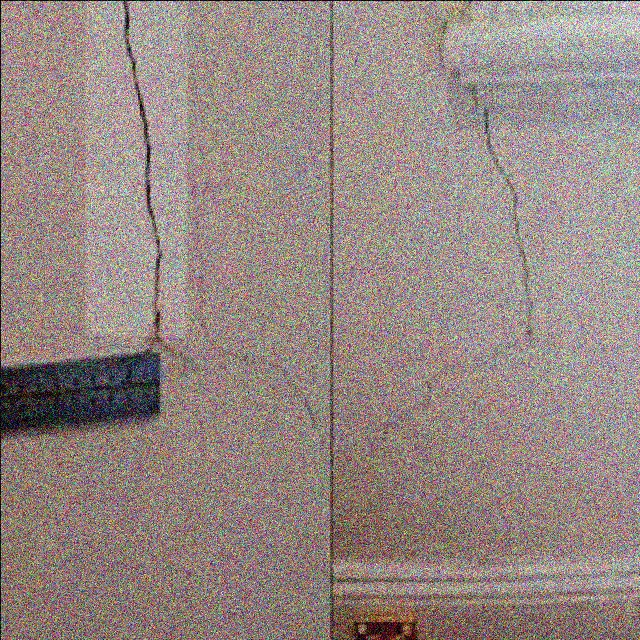SurfaceCrack: (72, 0, 204, 392)
